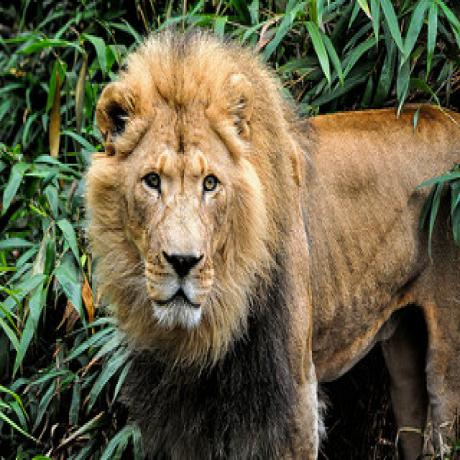Lion: (81, 32, 460, 460)
